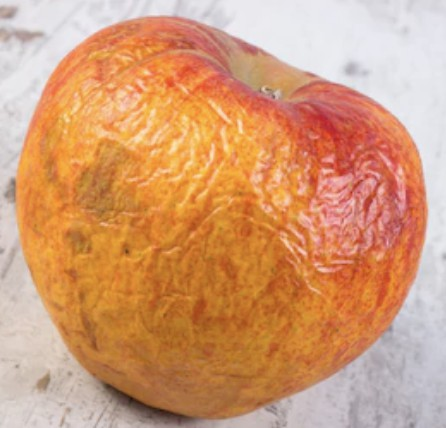rotten_apple: (17, 16, 427, 420)
